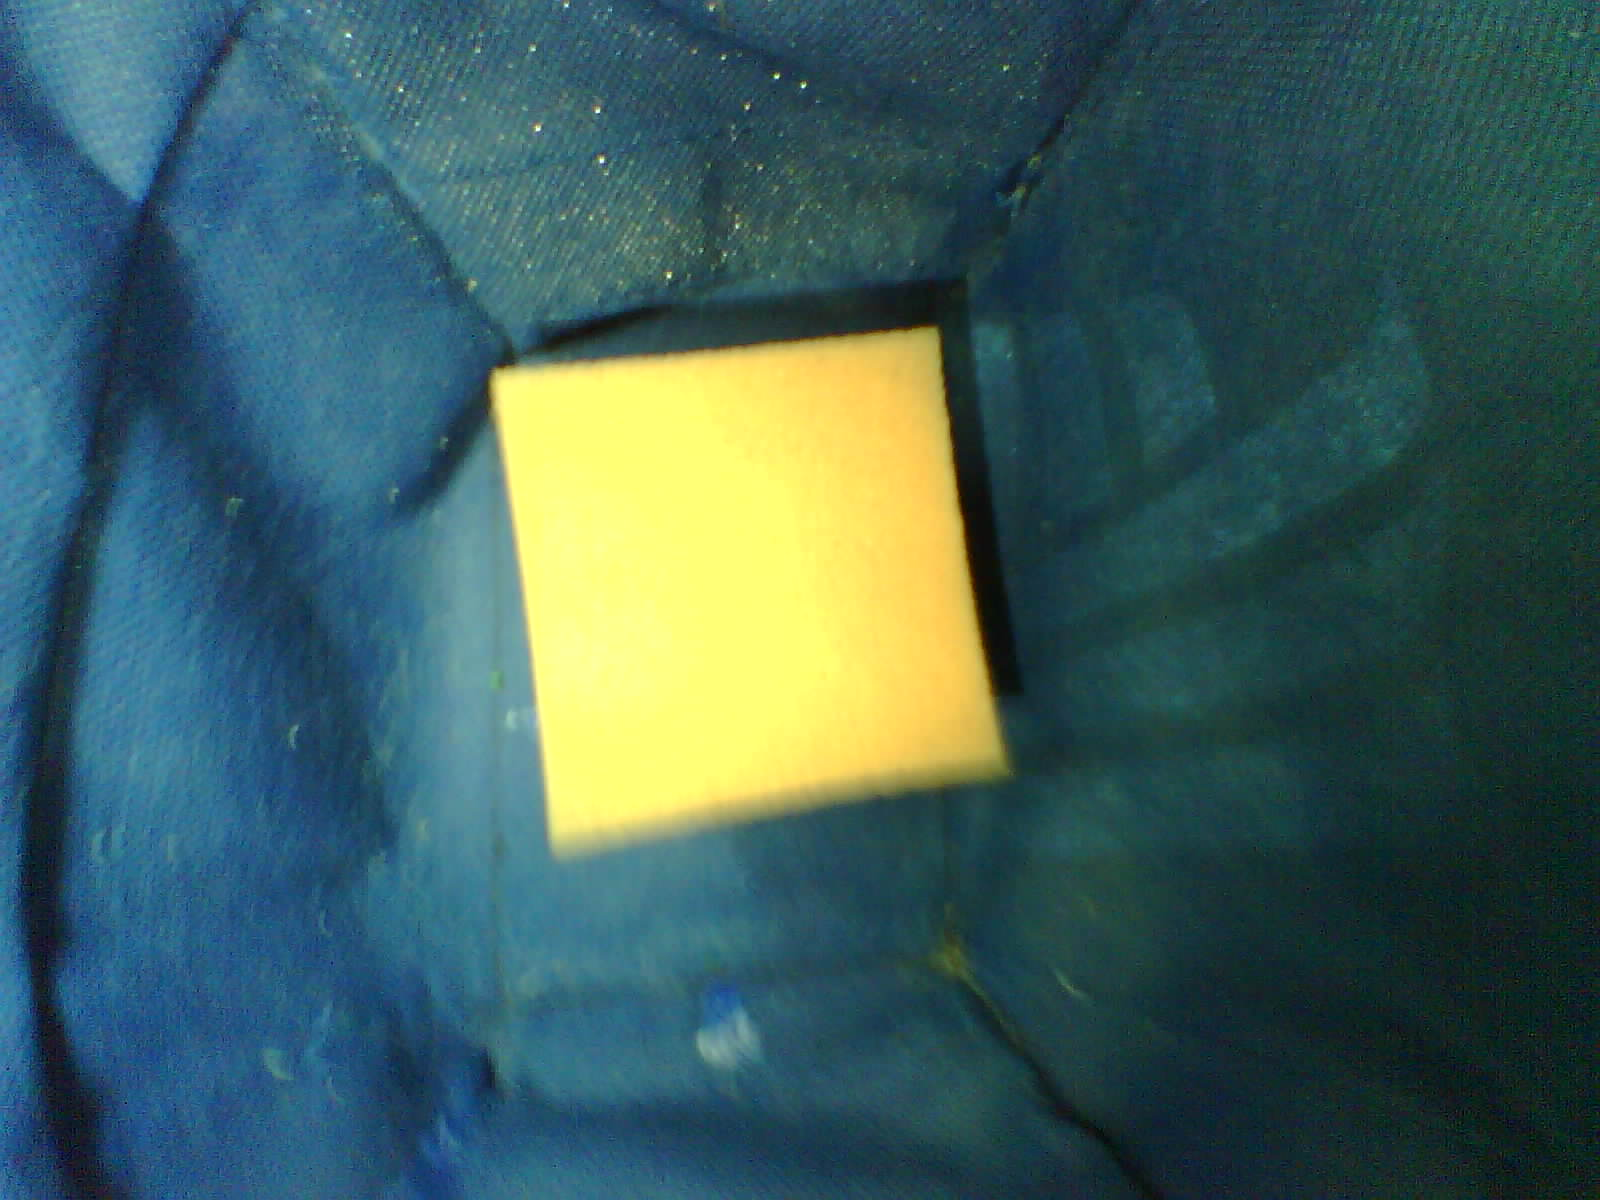cube-soft: (480, 296, 1042, 899)
